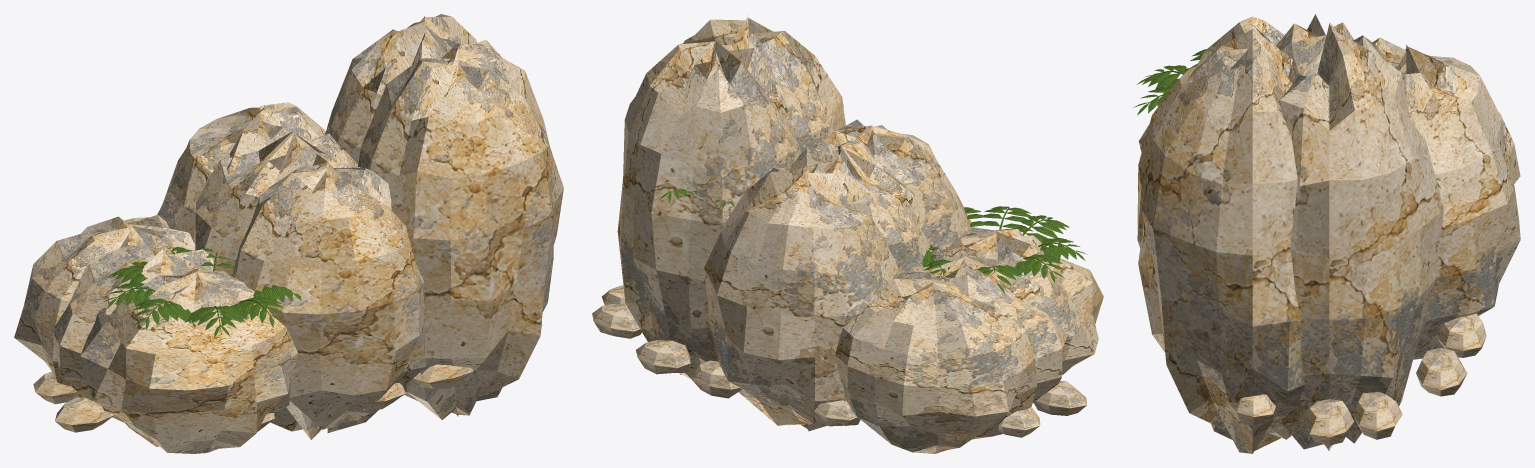
File: LimestoneGarden.fbx
3 views of the same model, side by side, from view 1: azimuth 30°, elevation 25°; view 2: azimuth 150°, elevation 25°; view 3: azimuth 270°, elevation 25° (orthographic). The views are drawn at different scales.
Visible parts, largest first — view 1: LimestoneGarden_LOD0; view 2: LimestoneGarden_LOD0; view 3: LimestoneGarden_LOD0.
Part boxes in pixels (left/top/right/bottom): LimestoneGarden_LOD0: left=14, top=14, right=563, bottom=453; LimestoneGarden_LOD0: left=592, top=15, right=1103, bottom=453; LimestoneGarden_LOD0: left=1133, top=14, right=1520, bottom=453.
Size of what is drawn, in the model's own units: 5.17 by 3.71 by 3.04.
